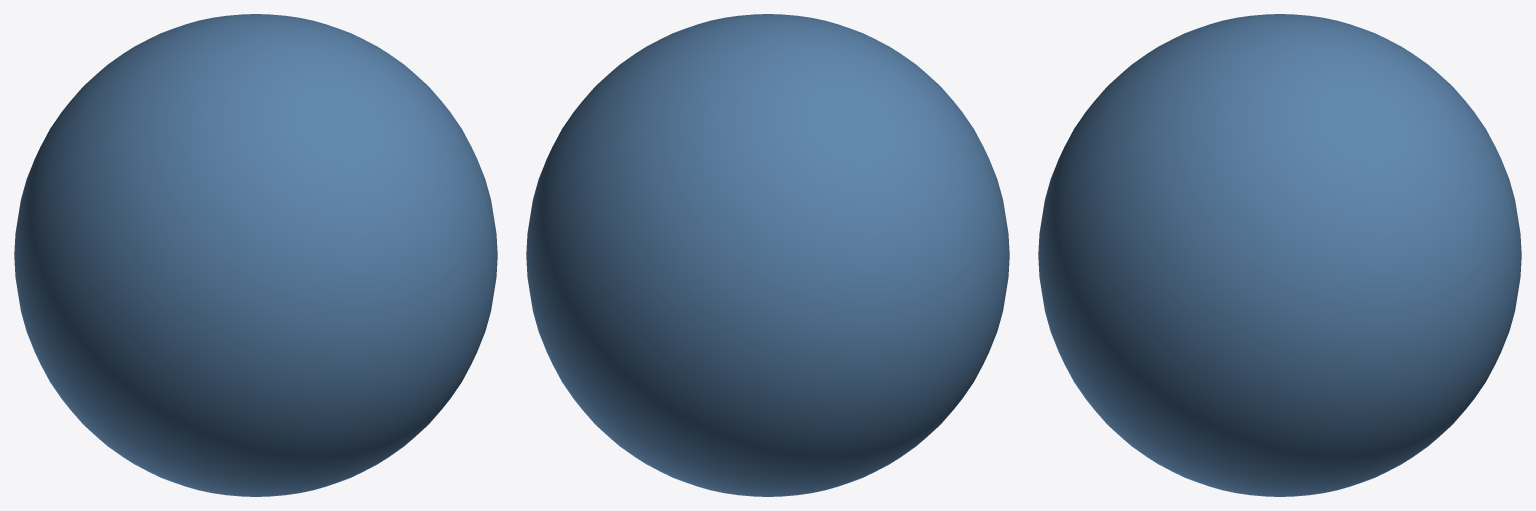
Rendered from planet_3.obj.
3 views of the same model, side by side, from view 1: azimuth 30°, elevation 25°; view 2: azimuth 150°, elevation 25°; view 3: azimuth 270°, elevation 25° (orthographic).
Parts seen in each view (by area): view 1: planet_3; view 2: planet_3; view 3: planet_3.
Part boxes in pixels (box(x1,y1,x2,y2)): planet_3: box(14, 14, 497, 496); planet_3: box(526, 14, 1009, 496); planet_3: box(1038, 14, 1521, 496).
Size of the model in its own units: 2 by 2 by 2.
